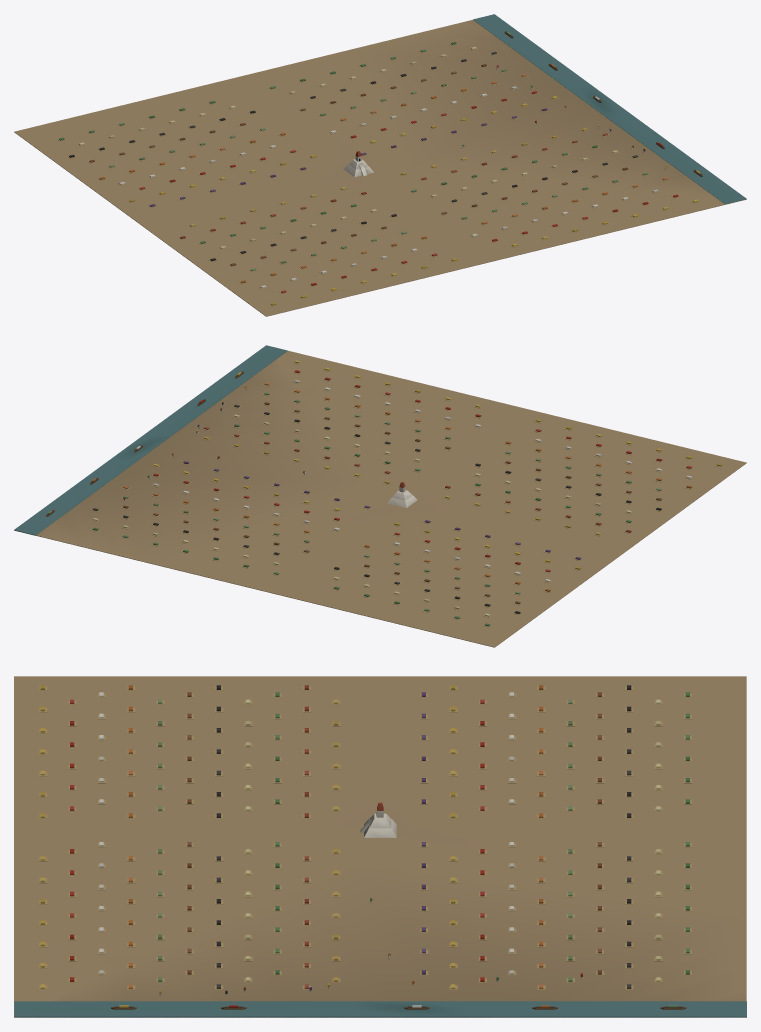
File: tlatelolco-market-1440.glb
The picture shows the model from 3 angles, top to bottom: view 1: azimuth 30°, elevation 25°; view 2: azimuth 150°, elevation 25°; view 3: azimuth 270°, elevation 25°; orthographic projection. The views are drawn at different scales.
Visible parts, largest first — view 1: p0_plaza, p2_stalls, p1_stage1; view 2: p0_plaza, p2_stalls, p1_stage1; view 3: p0_plaza, p2_stalls, p1_stage1.
Part boxes in pixels (x1,y1,x2,y2): p0_plaza: (14,14,746,316); p2_stalls: (67,31,702,306); p1_stage1: (57,42,699,298); p0_plaza: (14,345,746,647); p2_stalls: (46,367,723,619); p1_stage1: (91,360,693,627); p0_plaza: (14,676,746,1017); p2_stalls: (39,685,691,1009); p1_stage1: (39,692,691,989).
Bounding box in the file's own units: 220 × 8.53 × 200.
